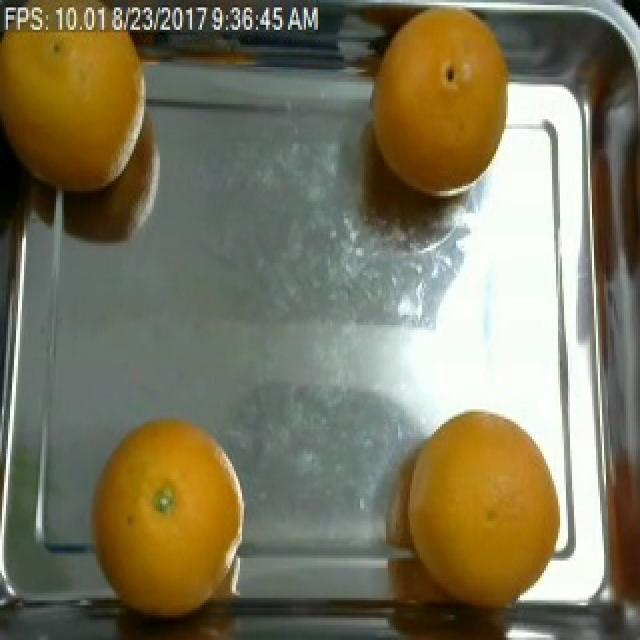Fruit: (348, 0, 522, 206), (76, 404, 252, 600), (0, 10, 156, 208)
